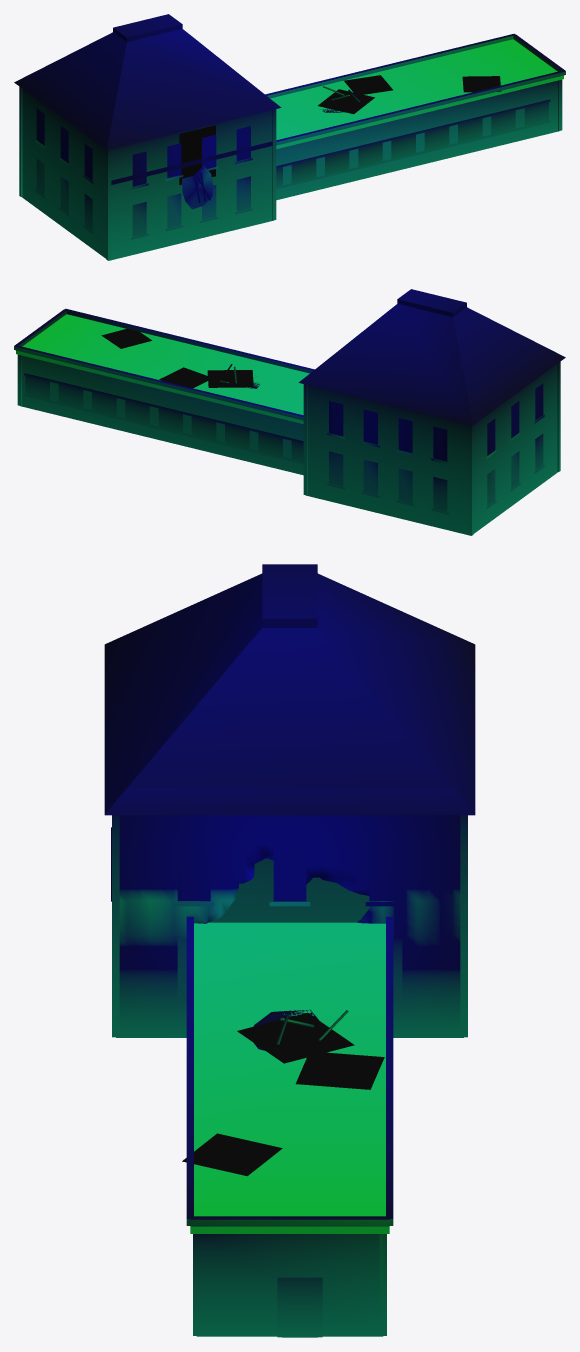
File: s_main_leftwing_damaged.glb
3 renders of one model, top to bottom at view 1: azimuth 30°, elevation 25°; view 2: azimuth 150°, elevation 25°; view 3: azimuth 270°, elevation 25°, orthographic. The views are drawn at different scales.
Visible parts, largest first — view 1: lod0; view 2: lod0; view 3: lod0.
Part boxes in pixels (left/top/right/bottom): lod0: left=14, top=14, right=565, bottom=260; lod0: left=14, top=289, right=565, bottom=535; lod0: left=104, top=564, right=475, bottom=1337.
Size of what is drawn, in the model's own units: 43.95 by 16 by 14.7.
